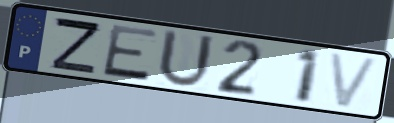1: (294, 48, 321, 107)
2: (214, 39, 265, 98)
E: (99, 23, 161, 84)
U: (154, 27, 217, 90)
V: (326, 50, 383, 111)
Z: (49, 15, 103, 77)
